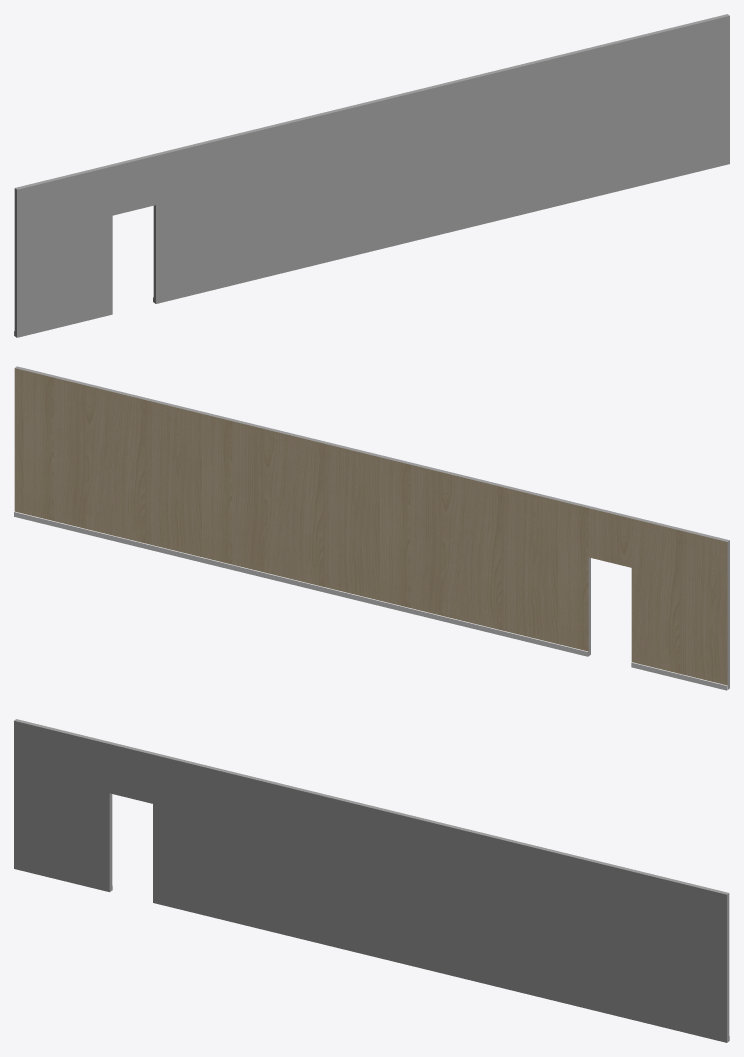
File: Wall 1.FBX
3 views of the same model, one above another, from view 1: azimuth 30°, elevation 25°; view 2: azimuth 150°, elevation 25°; view 3: azimuth 330°, elevation 25° (orthographic).
Visible parts, largest first — view 1: Wall 1; view 2: Wall 1; view 3: Wall 1.
Boxes of the visible parts, bbox=[...] form: Wall 1: bbox=[14, 14, 729, 337]; Wall 1: bbox=[14, 366, 729, 690]; Wall 1: bbox=[14, 719, 729, 1042].
Size of the model in its own units: 1628 by 323 by 11.98.
Materials: 3 (1 with a texture image).
